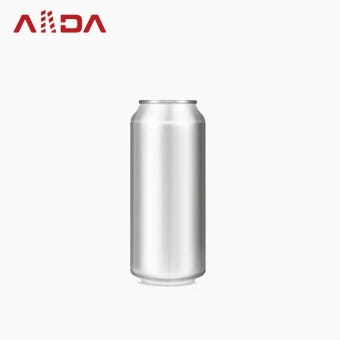paper: (126, 98, 208, 287)
